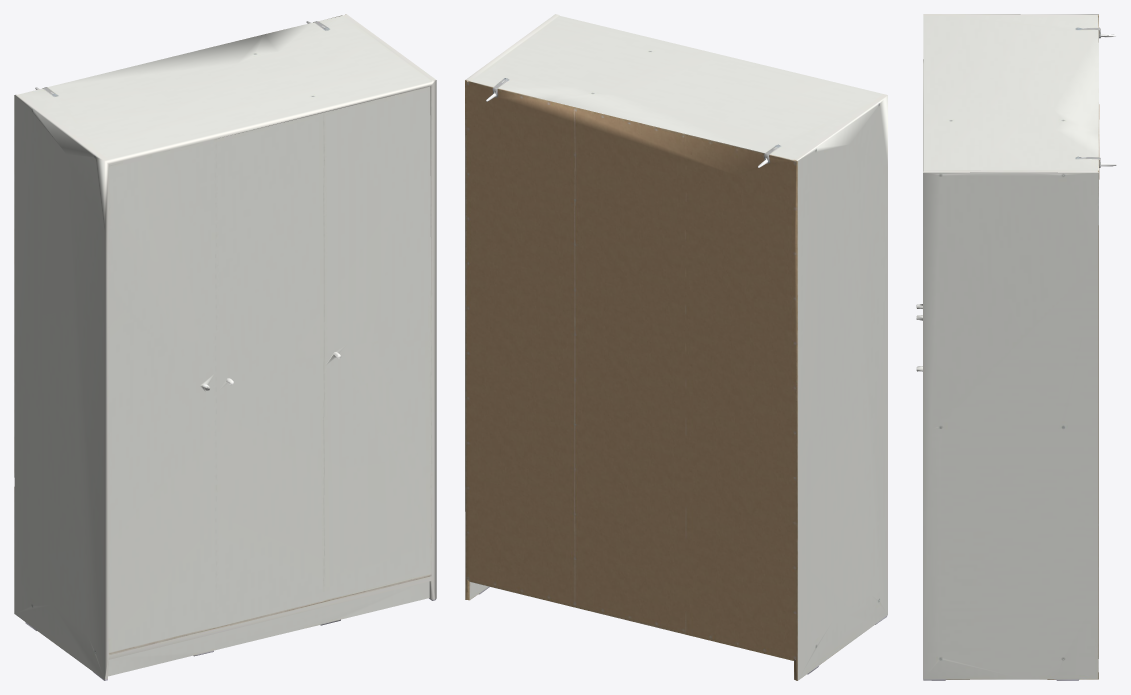
The model's file is kleppstad_wardrobe_with_3_doors_white.glb.
The picture shows the model from 3 angles, left to right: view 1: azimuth 30°, elevation 25°; view 2: azimuth 150°, elevation 25°; view 3: azimuth 270°, elevation 25°; orthographic projection. The views are drawn at different scales.
Visible parts, largest first — view 1: ProcessedMeshNode; view 2: ProcessedMeshNode; view 3: ProcessedMeshNode.
Boxes of the visible parts, x1,y1,x2,y2 form: ProcessedMeshNode: [14, 14, 436, 680]; ProcessedMeshNode: [465, 14, 887, 680]; ProcessedMeshNode: [916, 14, 1116, 680].
Bounding box in the file's own units: 1.18 × 1.76 × 0.6263.
1 material, 1 textured.
